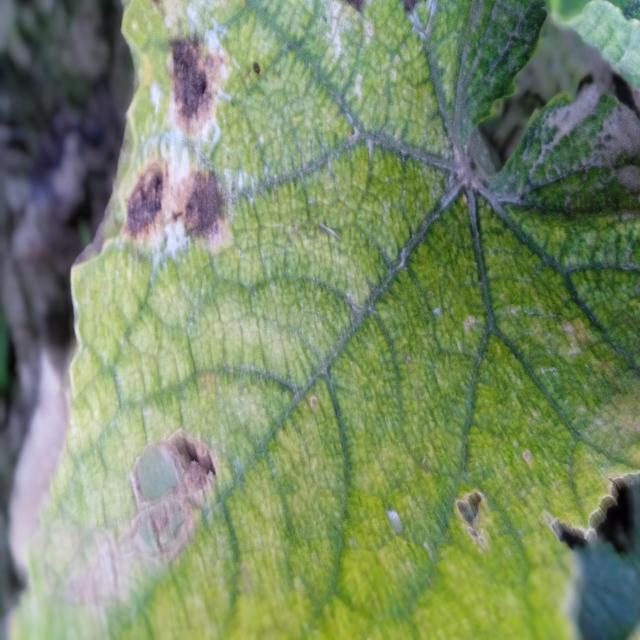cucumber_anthracnose: (87, 18, 618, 570)
